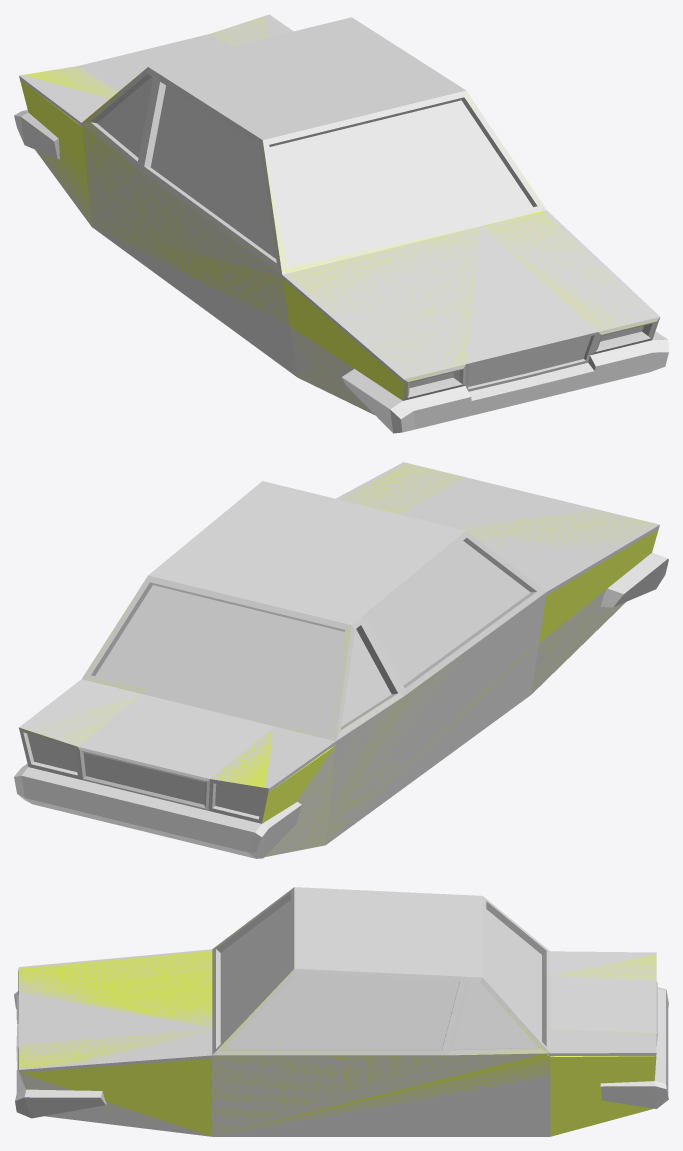
File: Car Without Wheel.fbx
3 renders of one model, top to bottom at view 1: azimuth 30°, elevation 25°; view 2: azimuth 150°, elevation 25°; view 3: azimuth 270°, elevation 25°, orthographic. The views are drawn at different scales.
Parts seen in each view (by area): view 1: Cube, Cube.001; view 2: Cube, Cube.001; view 3: Cube, Cube.001.
Part boxes in pixels (x1,y1,x2,y2): Cube: (14, 14, 668, 433); Cube.001: (20, 16, 657, 412); Cube: (14, 462, 668, 858); Cube.001: (20, 463, 658, 856); Cube: (14, 887, 668, 1136); Cube.001: (18, 894, 656, 1136).
Bounding box in the file's own units: 552 × 370 × 1356.
